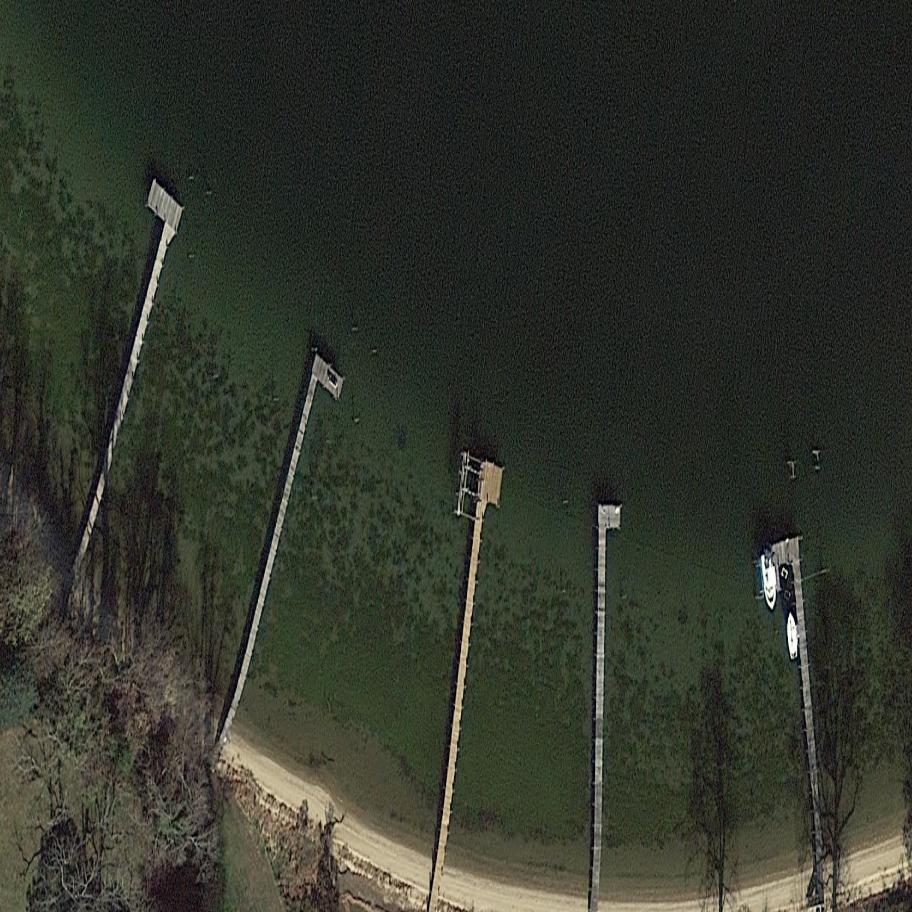ship: (761, 551, 778, 614), (785, 609, 800, 662)
